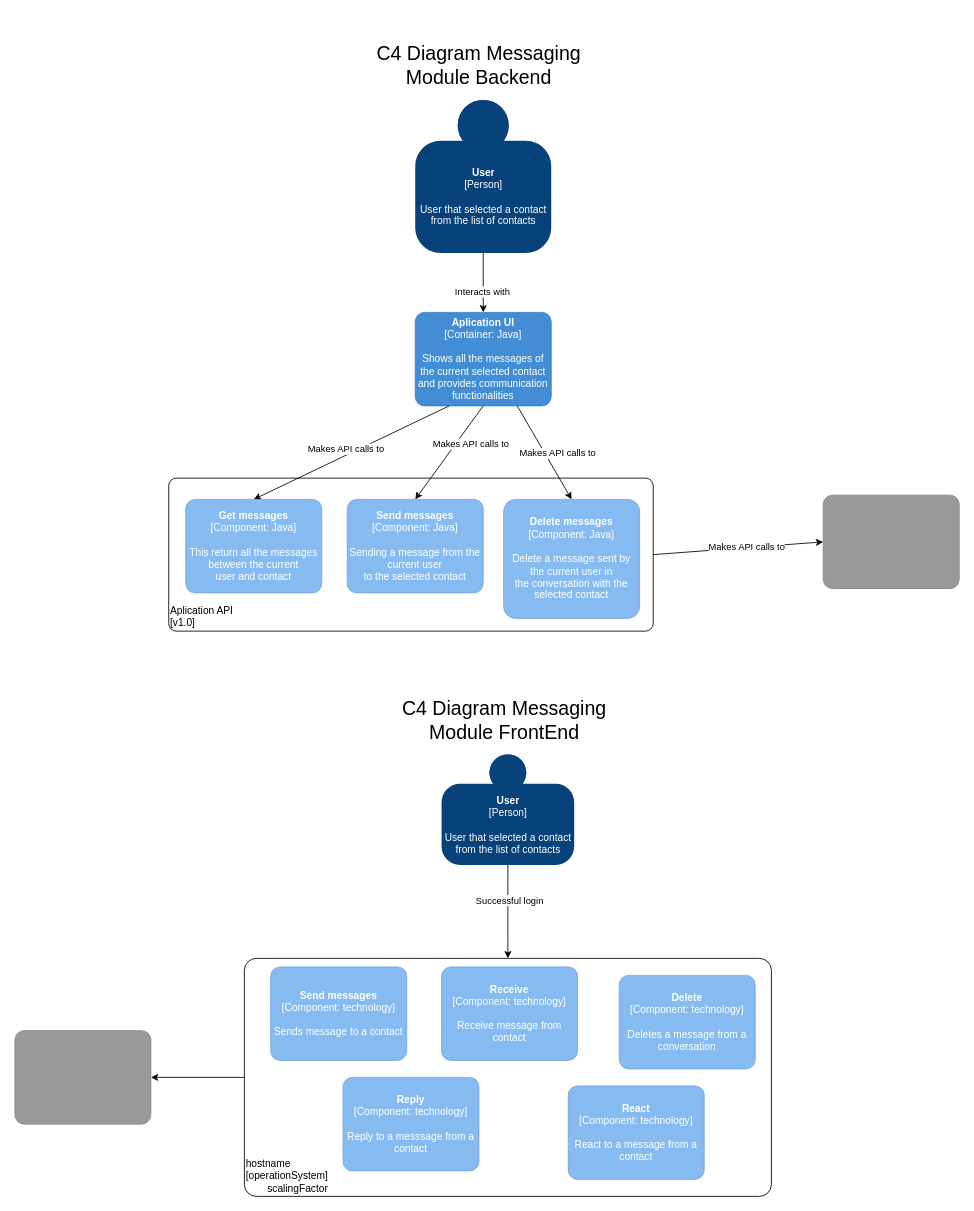
The diagram is 974 pixels wide and 1211 high, and some of its shapes have lost their labels. Each missing label, with the centre of its shape:
API [Software System] API channel: the point at 82,1077
Channel API [Software System] The internal API of the current channel: the point at 890,541
